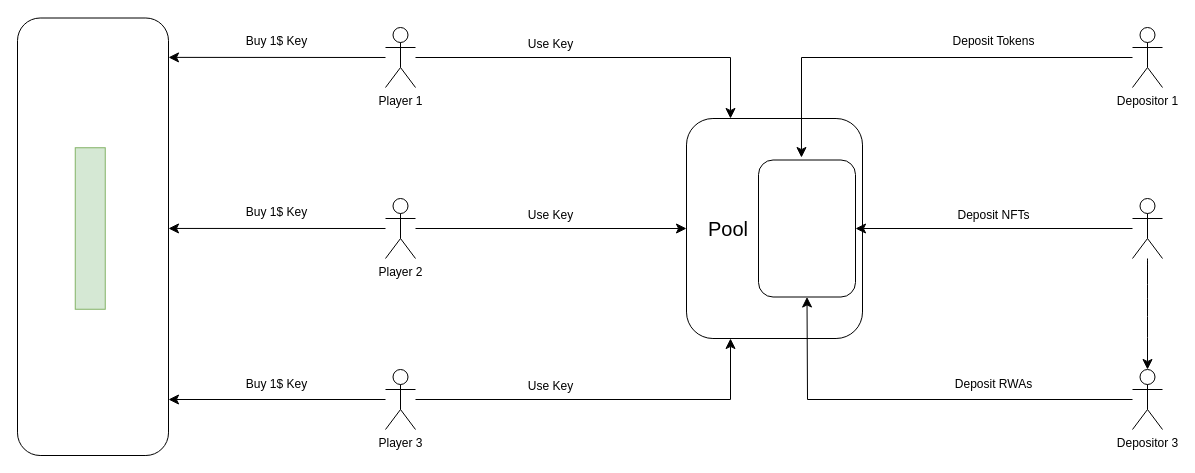
The diagram is 1195 pixels wide and 473 high, and some of its shapes have lost their labels. Here are the shapes that lost their labels. From the top down, the centre of each, then its label:
pixel 89 228: ERC-721 Minter
pixel 807 228: Tokens NFTs RWAs
pixel 1147 228: Depositor 2
